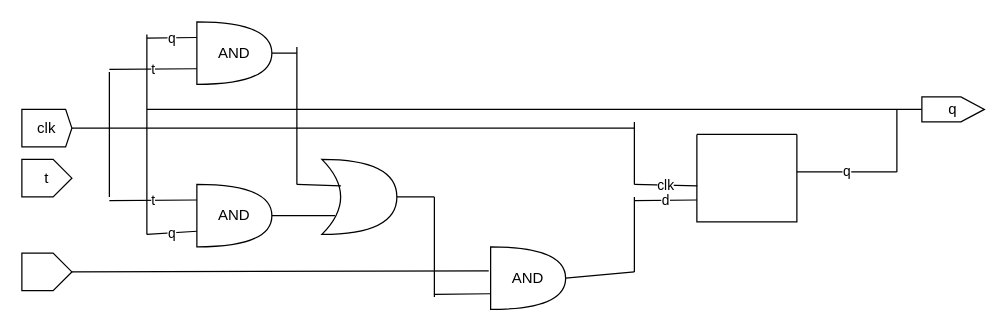
This 1006x331 diagram has some shape labels left out. Here are the shapes that lost their labels. From the top down, the box of each, then its label:
(321, 158, 397, 234): OR
(696, 133, 797, 222): D_Flip_Flop
(21, 252, 72, 291): rst_n
